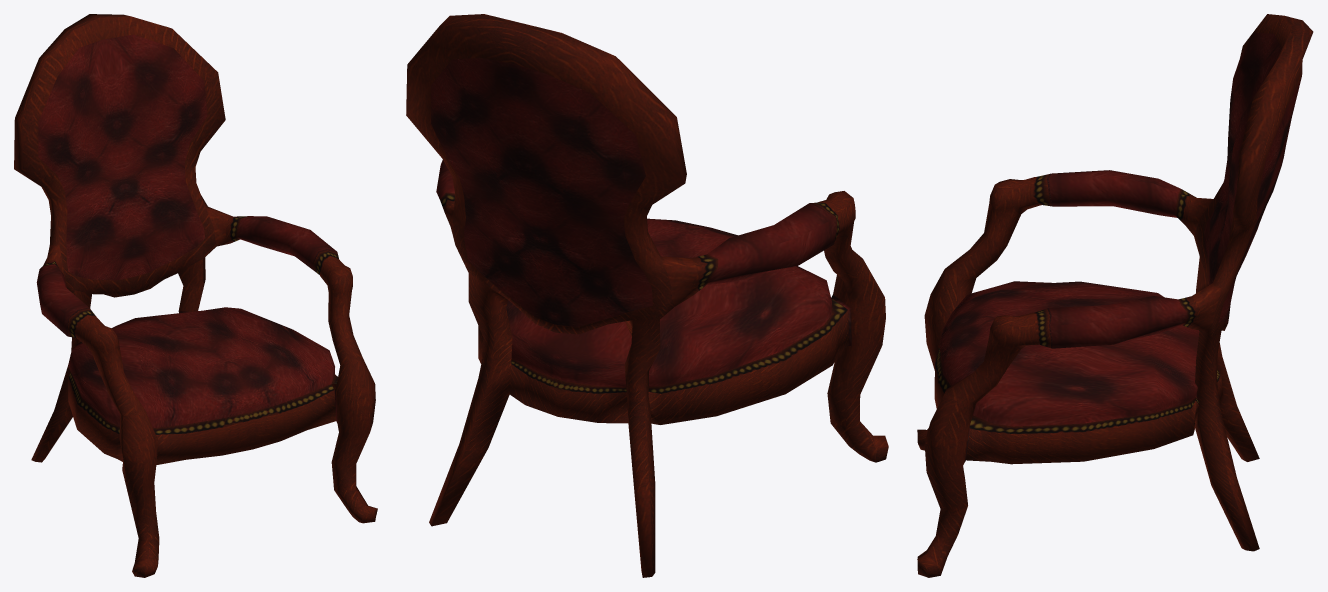
Rendered from Chair_Upolstered.fbx.
3 renders of one model, left to right at view 1: azimuth 30°, elevation 25°; view 2: azimuth 150°, elevation 25°; view 3: azimuth 270°, elevation 25°, orthographic. The views are drawn at different scales.
Parts seen in each view (by area): view 1: ChairUpolstered_LOD0; view 2: ChairUpolstered_LOD0; view 3: ChairUpolstered_LOD0.
Boxes of the visible parts, left/top/right/bottom form: ChairUpolstered_LOD0: left=14, top=14, right=377, bottom=577; ChairUpolstered_LOD0: left=406, top=14, right=888, bottom=577; ChairUpolstered_LOD0: left=917, top=14, right=1313, bottom=577.
Size of what is drawn, in the model's own units: 154 by 225 by 168.
